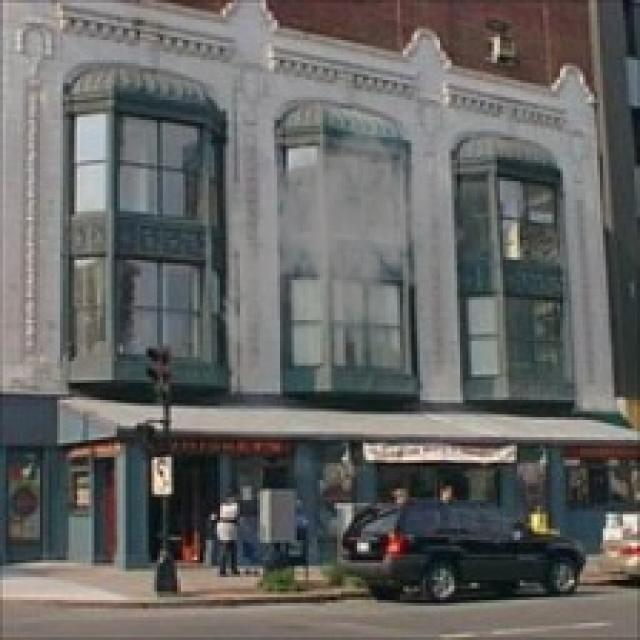smoke: (214, 111, 469, 380)
